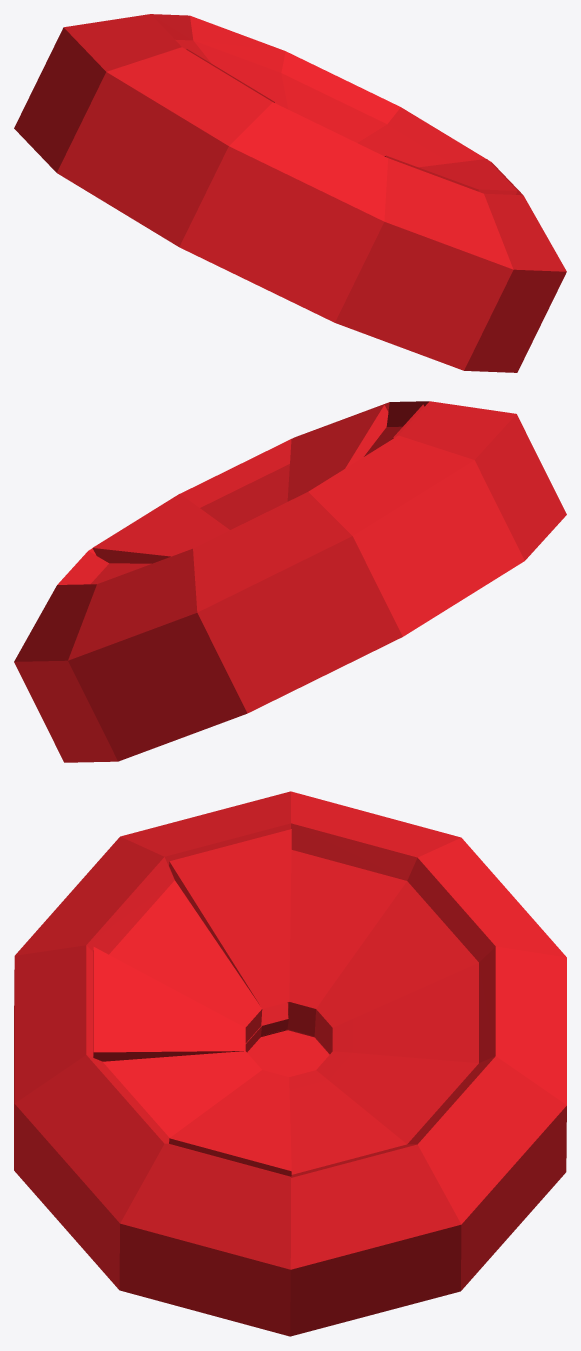
The model's file is additionalWheel.dae.
3 views of the same model, one above another, from view 1: azimuth 30°, elevation 25°; view 2: azimuth 150°, elevation 25°; view 3: azimuth 270°, elevation 25° (orthographic). The views are drawn at different scales.
Visible parts, largest first — view 1: RightFront; view 2: RightFront; view 3: RightFront.
Boxes of the visible parts, x1,y1,x2,y2 form: RightFront: (14, 14, 566, 372); RightFront: (14, 401, 566, 762); RightFront: (14, 791, 566, 1336).
Bounding box in the file's own units: 0.6753 × 0.6664 × 0.4858.
1 material, 1 textured.
